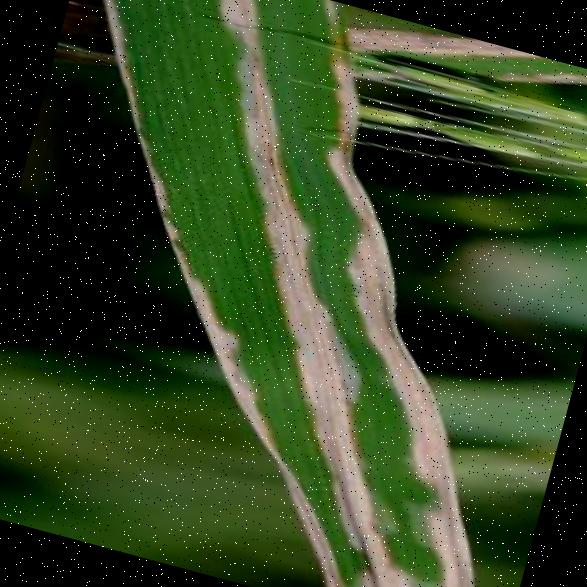Bacteria_Leaf_Blight: (82, 0, 429, 459)
